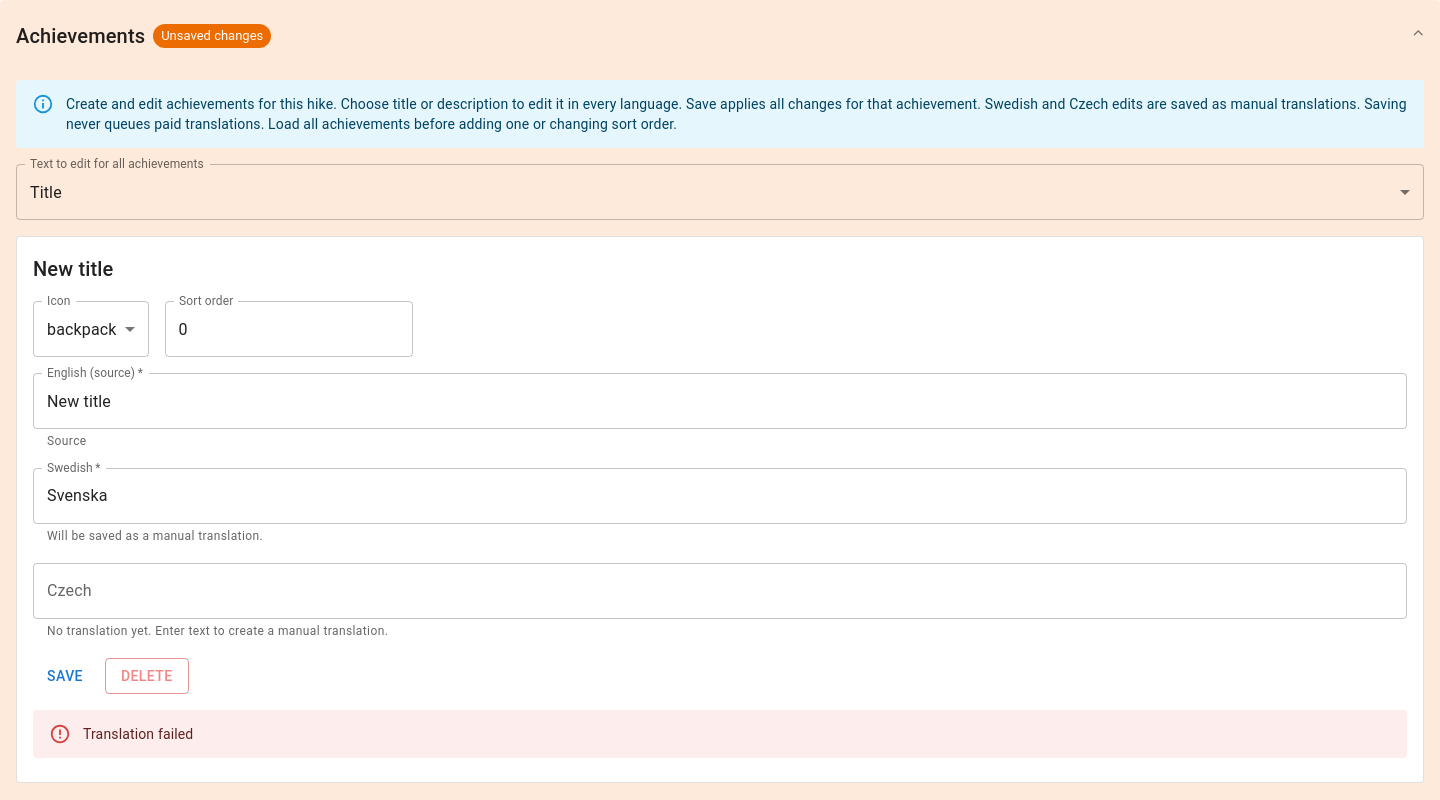
Test: creation retry after a translation failure does not create duplicate achievements
The width and height of the screenshot is (1440, 800).
Earlier steps of the test are not shown.
Expected: the text "Translation failed" is shown, [83, 726, 193, 742]
Click the button "Save" at (65, 676), box [33, 658, 97, 694]
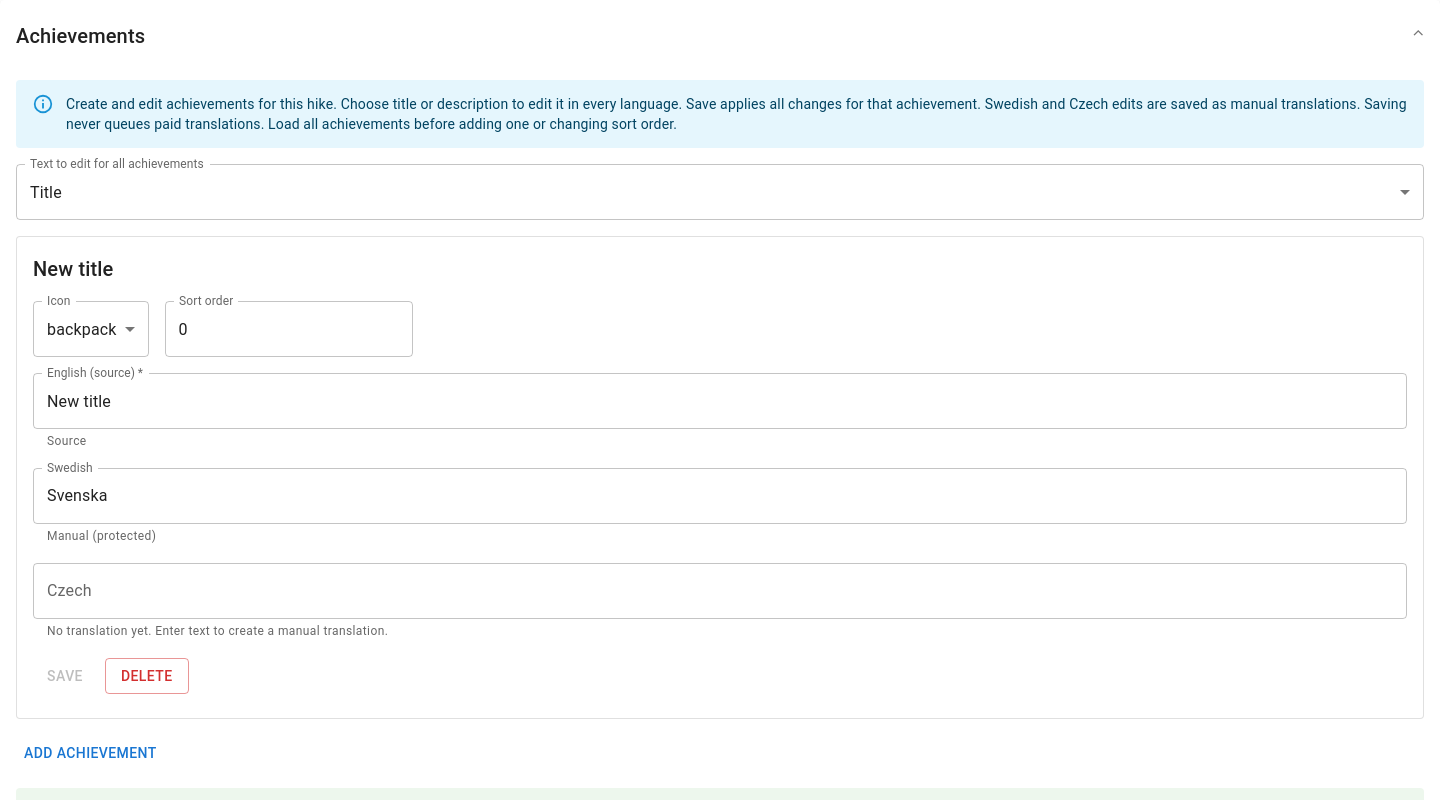
Now the text "Translation failed" is gone
Now the button "Add achievement" is enabled, box [16, 735, 165, 772]
